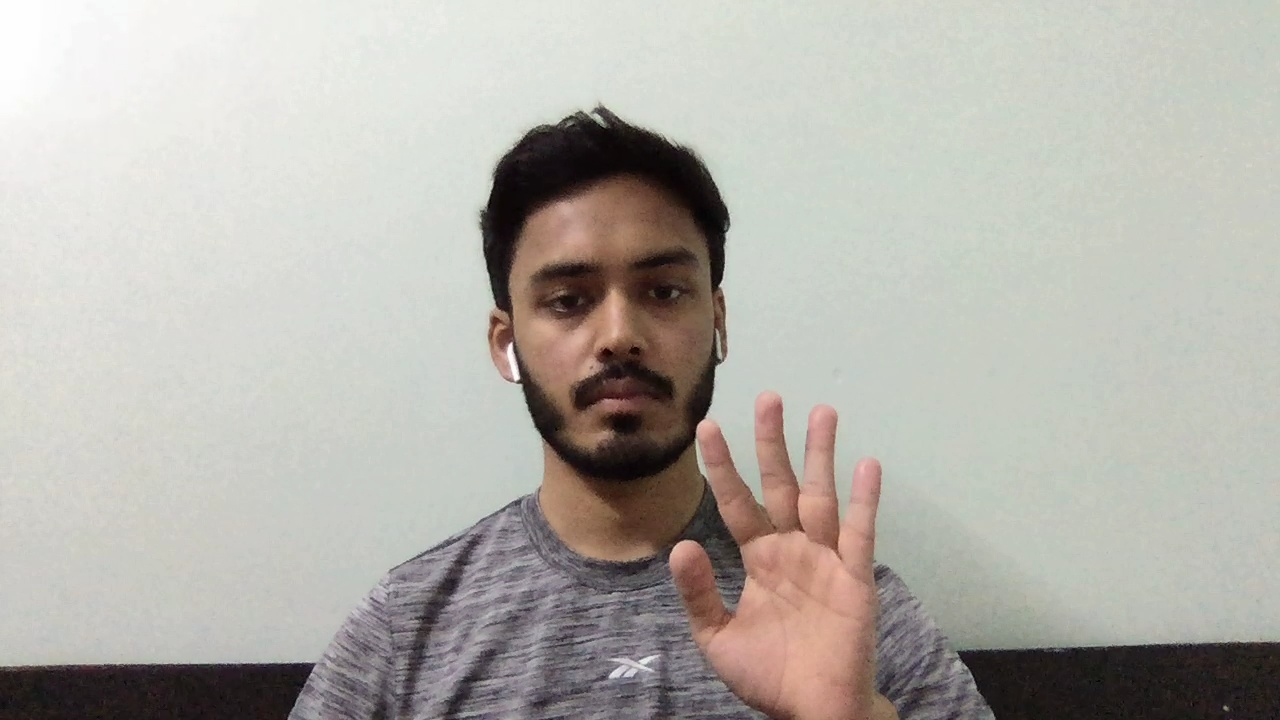Hello: (659, 387, 917, 713)
